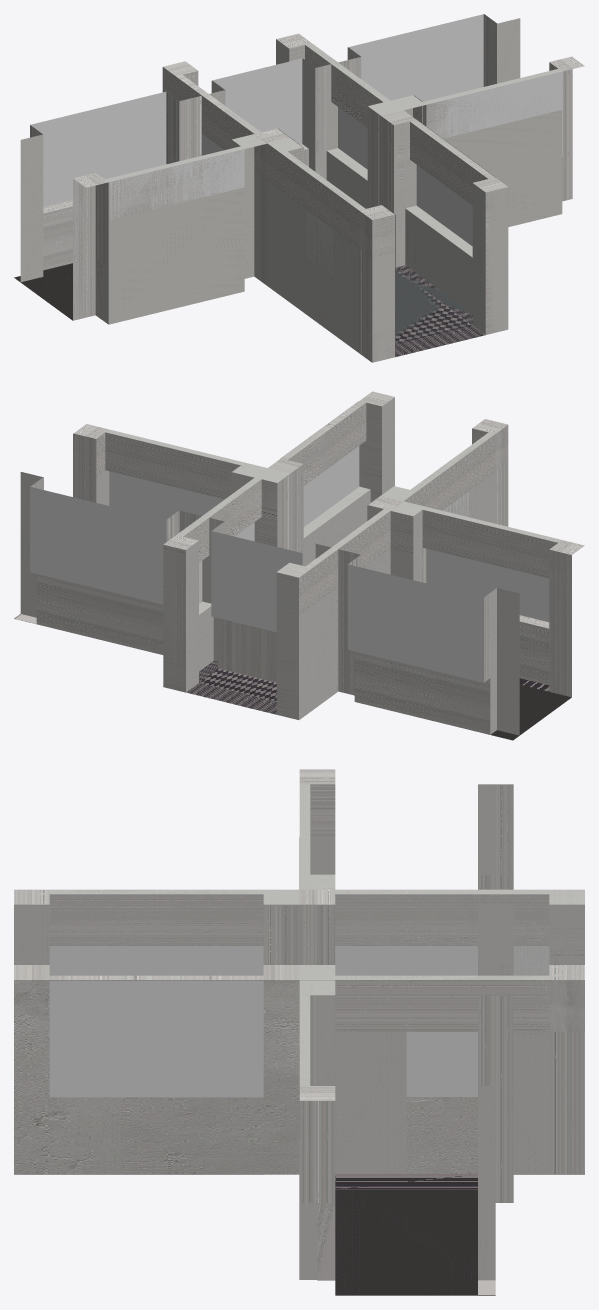
The model's file is school.glb.
3 views of the same model, one above another, from view 1: azimuth 30°, elevation 25°; view 2: azimuth 150°, elevation 25°; view 3: azimuth 270°, elevation 25° (orthographic). The views are drawn at different scales.
Visible parts, largest first — view 1: HallwayCR-col, WindowCR-col, HallwayDR-col, HallwayCL-col, WindowCL-col, Hallway-col, HallwayW-col, HallwayWR-col, HallwayD-col, HallwayDL-col; view 2: WindowCR-col, HallwayCL-col, HallwayCR-col, WindowCL-col, HallwayDR-col, Hallway-col, HallwayW-col, HallwayWR-col, HallwayD-col; view 3: WindowCL-col, HallwayD-col, Hallway-col, HallwayWR-col, HallwayCL-col, HallwayCR-col, HallwayW-col, WindowCR-col, HallwayDR-col.
Part boxes in pixels (x1,y1,x2,y2): HallwayCR-col: (14, 58, 485, 355); WindowCR-col: (16, 58, 430, 356); HallwayDR-col: (162, 39, 472, 362); HallwayCL-col: (211, 14, 584, 352); WindowCL-col: (212, 14, 572, 356); Hallway-col: (163, 39, 508, 356); HallwayW-col: (257, 45, 508, 362); HallwayWR-col: (163, 61, 394, 361); HallwayD-col: (276, 33, 491, 342); HallwayDL-col: (202, 134, 478, 360); WindowCR-col: (202, 443, 571, 740); HallwayCL-col: (15, 403, 479, 681); HallwayCR-col: (202, 402, 584, 740); WindowCL-col: (14, 401, 484, 681); HallwayDR-col: (163, 419, 508, 719); Hallway-col: (163, 391, 394, 714); HallwayW-col: (163, 397, 486, 719); HallwayWR-col: (276, 428, 488, 719); HallwayD-col: (163, 401, 381, 549); WindowCL-col: (14, 905, 513, 1295); HallwayD-col: (49, 894, 584, 1174); Hallway-col: (14, 889, 584, 1174); HallwayWR-col: (14, 889, 584, 975); HallwayCL-col: (264, 905, 513, 1294); HallwayCR-col: (14, 769, 513, 1096); HallwayW-col: (262, 905, 584, 1096); WindowCR-col: (406, 784, 513, 1096); HallwayDR-col: (14, 889, 299, 904).
Size of the model in its own units: 11.02 by 3.01 by 8.
3 materials, 2 textured.
